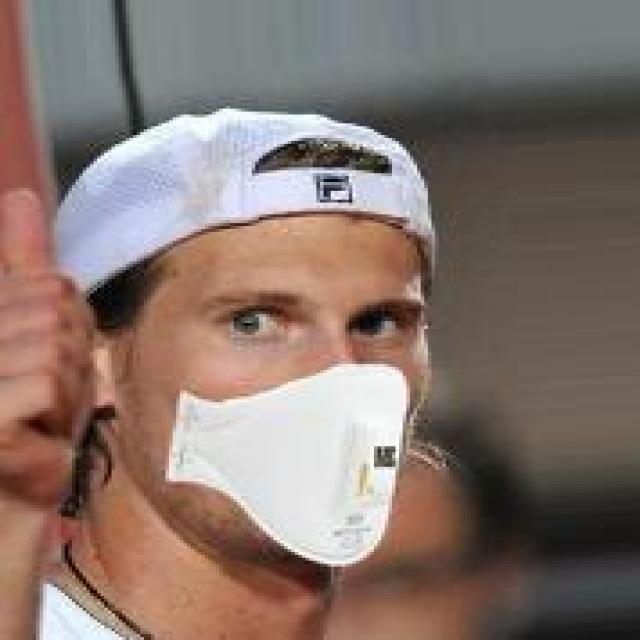mask: (61, 82, 478, 587)
